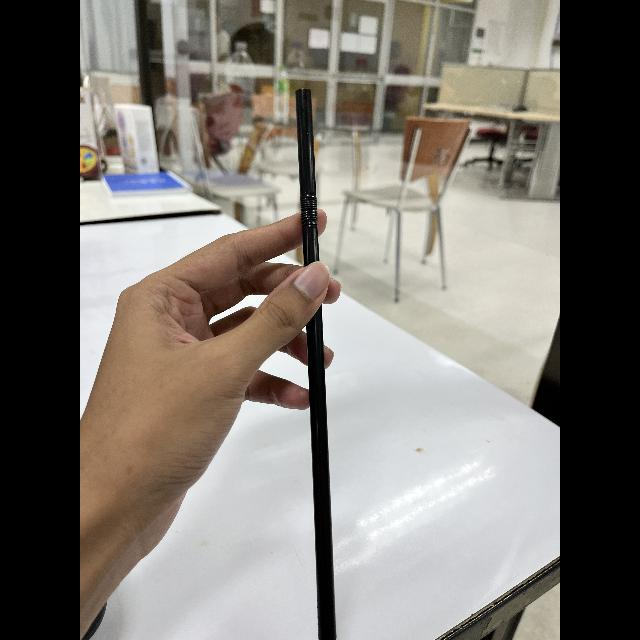straw: (290, 80, 342, 640)
